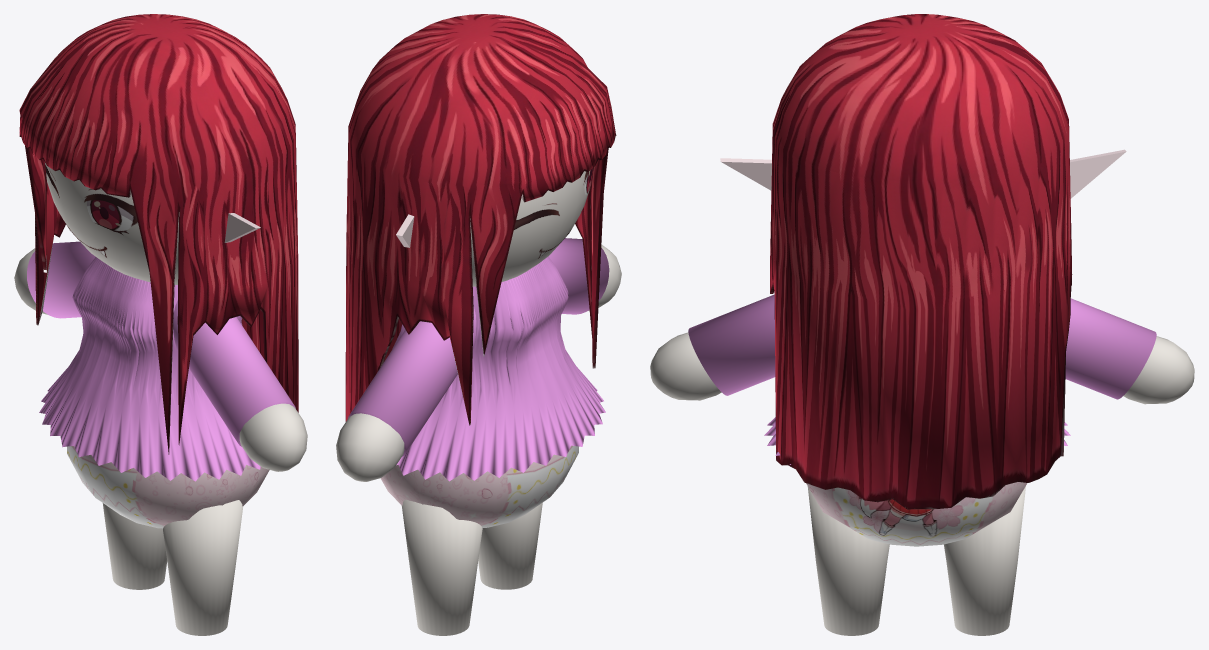
Rendered from pampirediaperdoll.glb.
The picture shows the model from 3 angles, left to right: view 1: azimuth 30°, elevation 25°; view 2: azimuth 150°, elevation 25°; view 3: azimuth 270°, elevation 25°; orthographic projection. The views are drawn at different scales.
Parts seen in each view (by area): view 1: head.001, head, head.002; view 2: head.001, head, head.002; view 3: head.001, head, head.003.
Boxes of the visible parts, x1,y1,x2,y2 form: head.001: (19, 14, 298, 469); head: (14, 163, 307, 635); head.002: (39, 257, 260, 481); head.001: (345, 14, 616, 425); head: (336, 168, 621, 635); head.002: (392, 256, 605, 481); head.001: (720, 14, 1072, 509); head: (650, 294, 1194, 635); head.003: (1070, 149, 1126, 198).
Size of the model in its own units: 2.36 by 5.7 by 4.75.
Materials: 7 (5 with a texture image).
